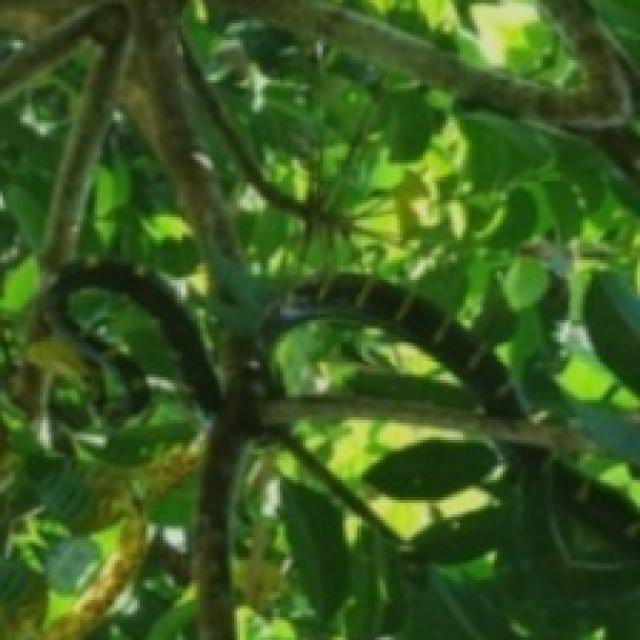mangrove cat snake: (250, 275, 526, 436), (46, 261, 225, 418), (561, 470, 640, 558)
